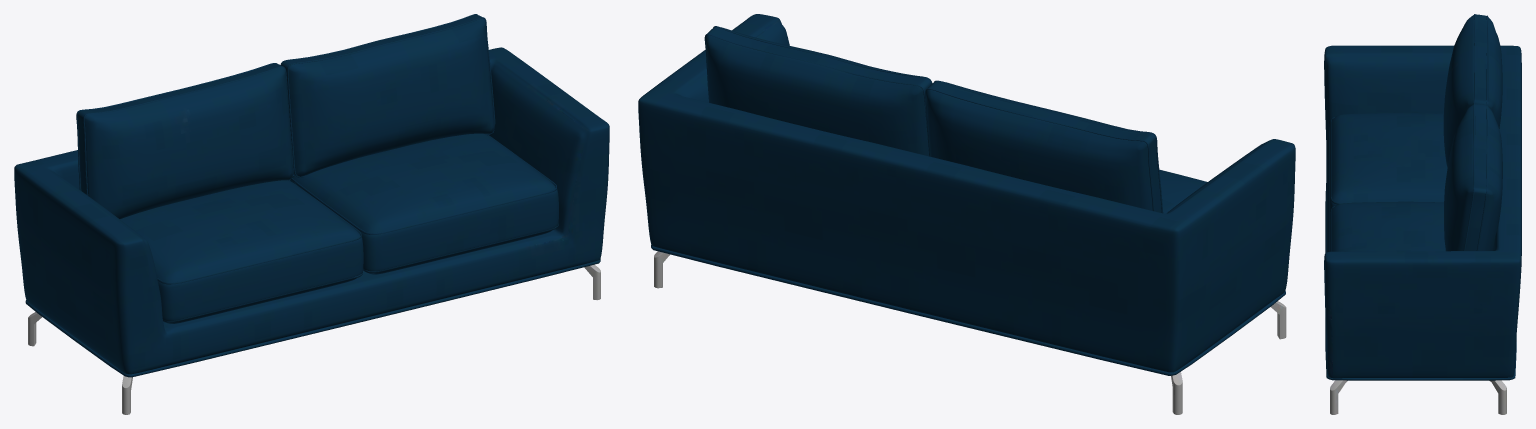
Rendered from abo-B073ZRNDP4.glb.
3 renders of one model, left to right at view 1: azimuth 30°, elevation 25°; view 2: azimuth 150°, elevation 25°; view 3: azimuth 270°, elevation 25°, orthographic. The views are drawn at different scales.
Size of the model in its own units: 2.21 by 0.998 by 0.853.
1 material, 1 textured.
